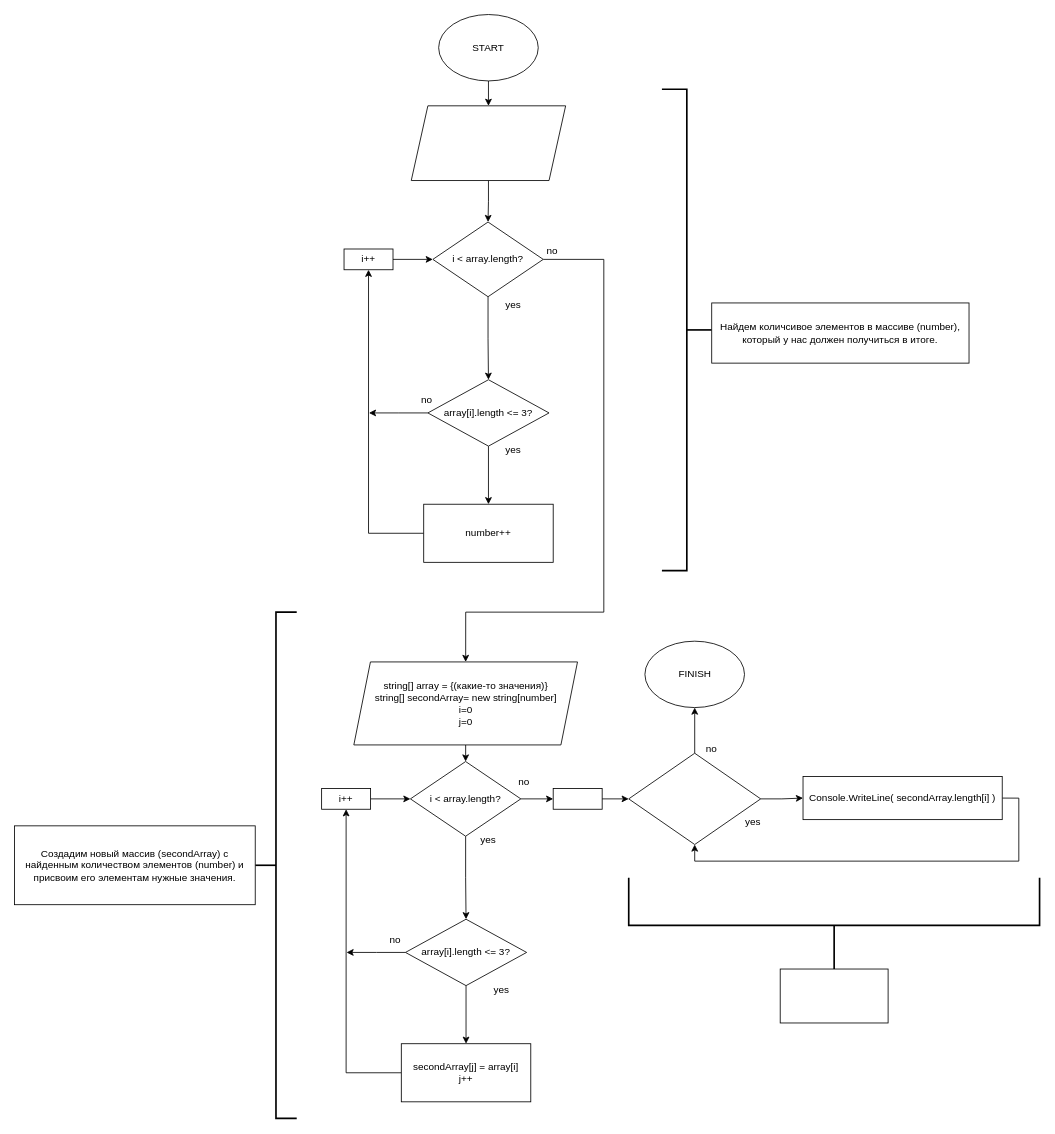
This 1055x1134 diagram has some shape labels left out. Here are the shapes that lost their labels. From the top down, the box of each, then its label:
(410, 105, 566, 181): string[] array = {(какие-то значения)} i=0 number=0
(552, 788, 602, 809): i=0
(628, 752, 761, 845): i < secondArray.length?
(779, 968, 888, 1023): Выведем полученный массив на экран
